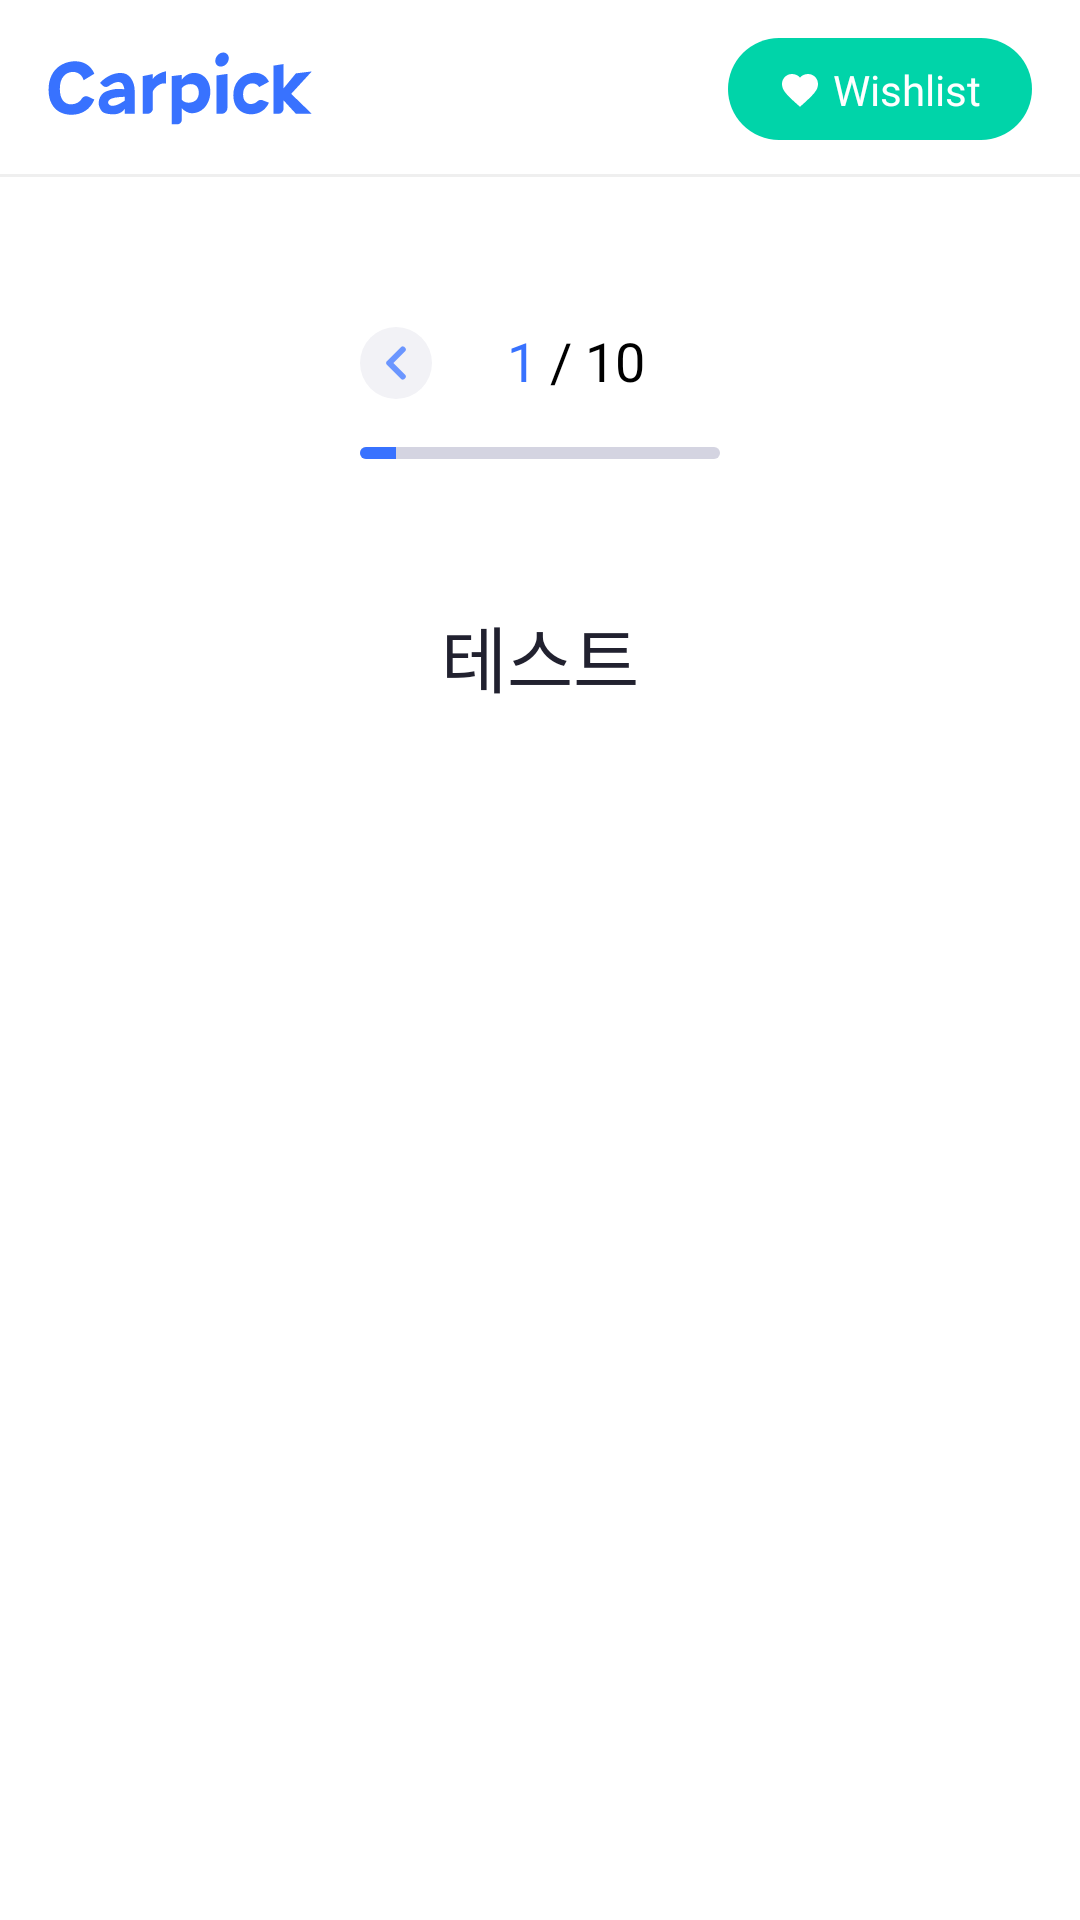

Icon click points for this 1080px×1920px phone screenshot, format (x,y):
heart: (800,90)
prev on: (396,363)
